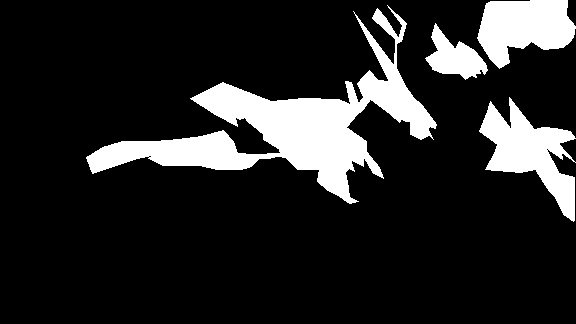Fire: (364, 1, 573, 75), (8, 141, 271, 183), (367, 73, 441, 137), (294, 131, 348, 199)
